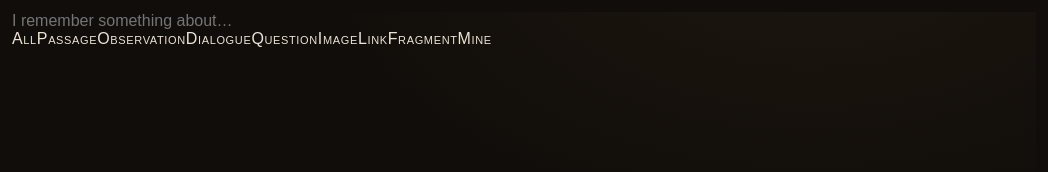
Test case: ForageView › lets a long result be read in place rather than sending you to the Forest
The image size is (1048, 172).
Type "tram" into the field at (524, 21), box x1=12 y1=12 x2=1036 y2=30
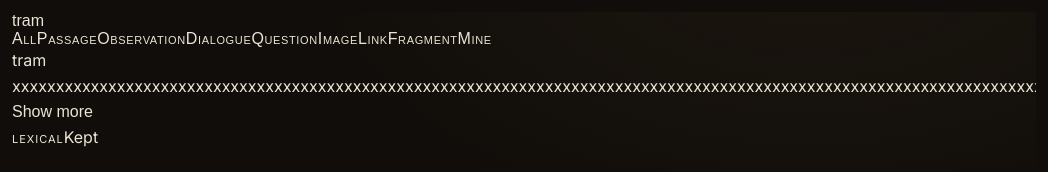
Check: the button "Show more" is shown
Click the button "Show more" at (52, 112), box x1=12 y1=103 x2=93 y2=121
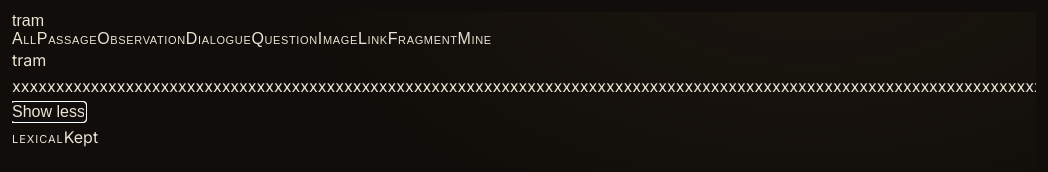
Check: the button "Show less" is shown, box x1=12 y1=103 x2=85 y2=121
